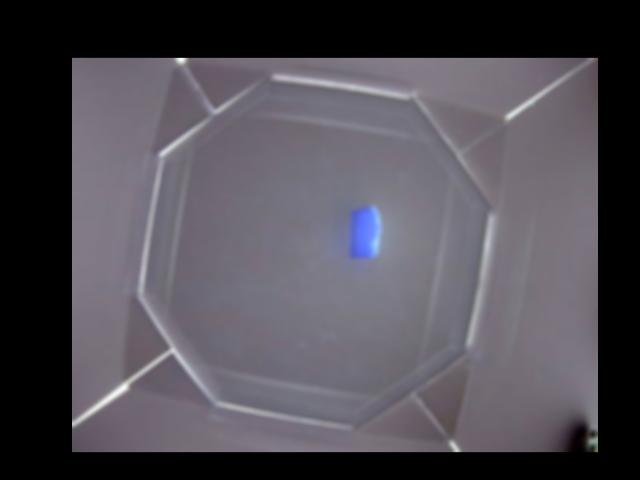Potato: (348, 204, 384, 258)
